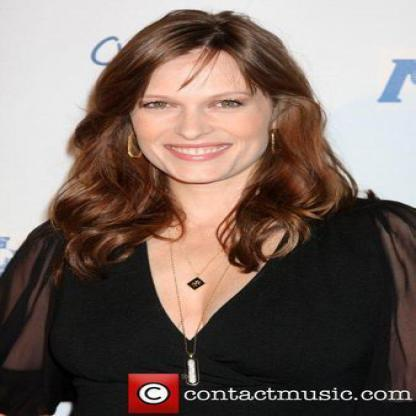long-hair: (52, 185, 362, 226)
